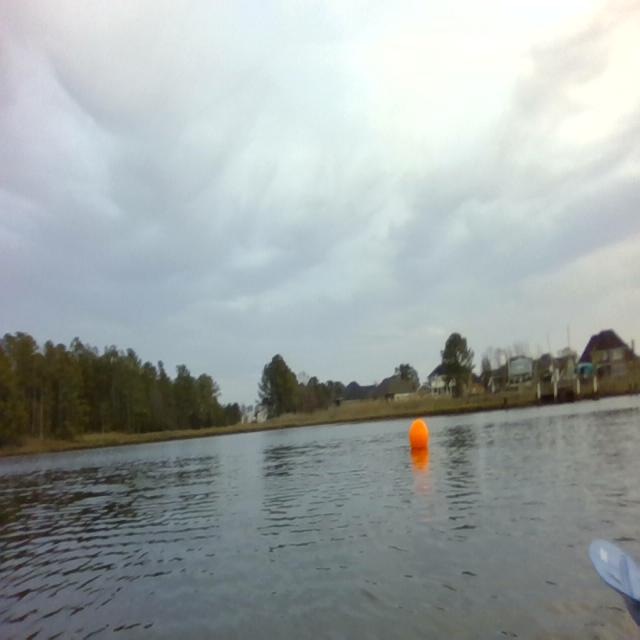Buoy: (409, 416, 429, 452)
